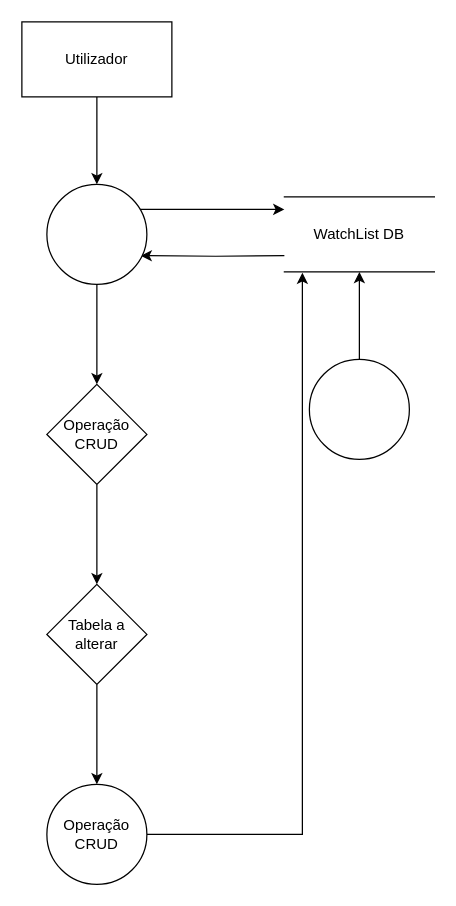
Image size: 456x906. Some labels were removed from this diagram. The centre of each missing label's shape, as x and y in pixels:
Criar tabelas: the point at 358,408
Main: the point at 96,233
